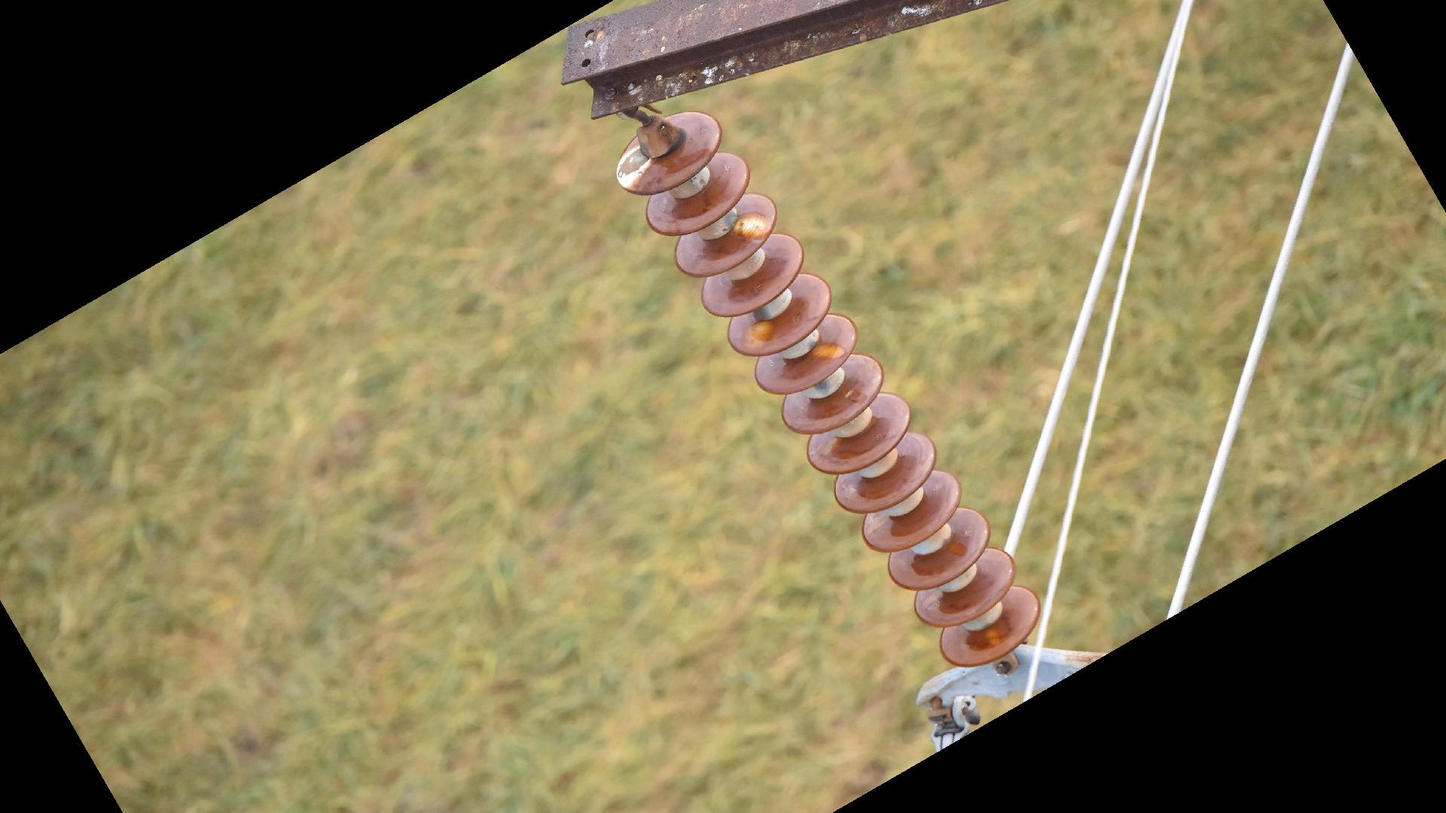insulator: (608, 106, 1045, 673)
insulator_flashover: (612, 145, 651, 192), (729, 209, 773, 245), (740, 316, 779, 353), (810, 340, 848, 362)
